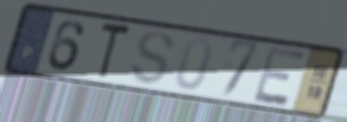0: (173, 35, 216, 94)
6: (47, 19, 86, 73)
7: (213, 37, 262, 103)
E: (250, 44, 309, 109)
S: (127, 28, 177, 87)
T: (94, 19, 134, 81)
